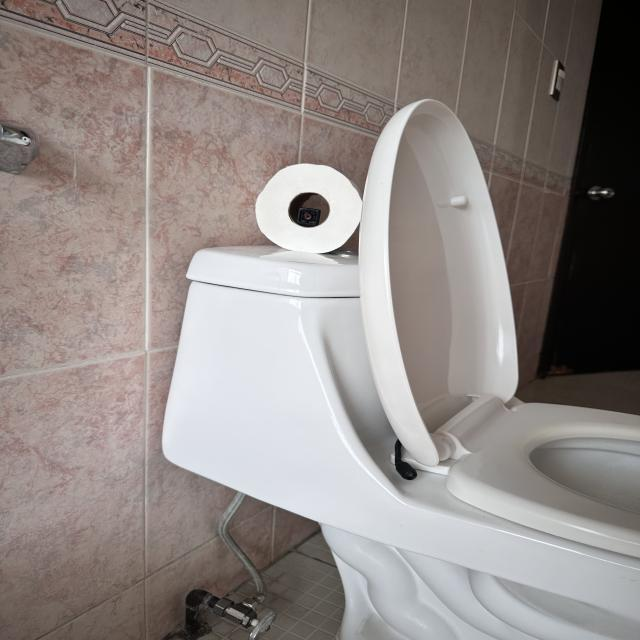hidden camera: (303, 213, 313, 221)
